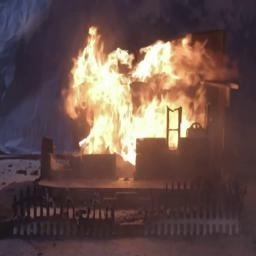fire: (63, 28, 221, 153)
